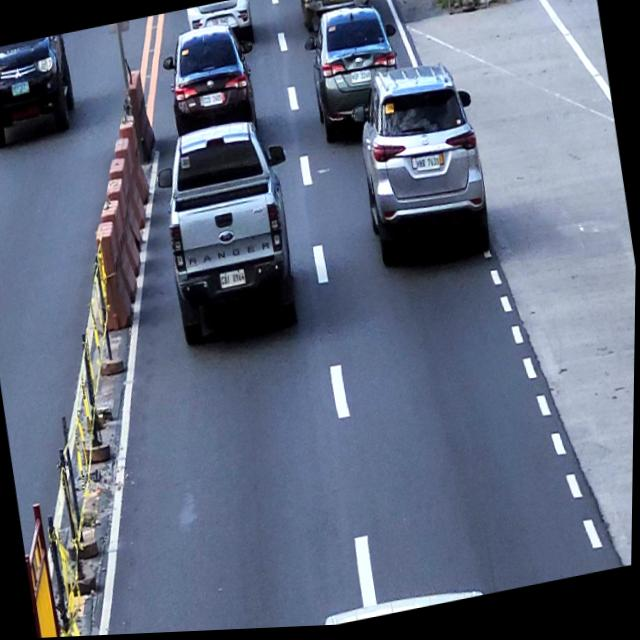Car: (150, 113, 314, 349), (346, 57, 497, 276), (299, 0, 412, 148), (157, 19, 261, 147), (0, 33, 81, 149), (185, 0, 256, 56)
Jeep: (296, 0, 376, 41)
License-Plate: (219, 270, 248, 292), (415, 157, 441, 176), (350, 71, 373, 88), (11, 81, 31, 98), (203, 94, 224, 110), (211, 17, 230, 32), (328, 0, 346, 8)
